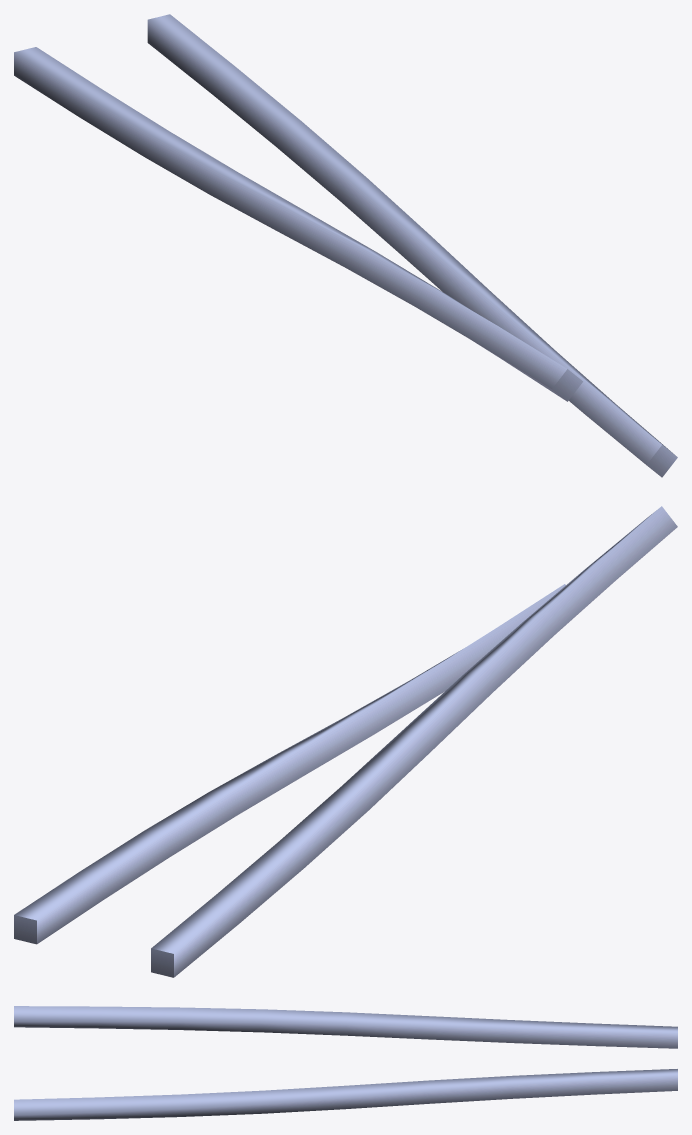
File: kenney-train-railroad-rail-straight-skew-left.glb
3 views of the same model, one above another, from view 1: azimuth 30°, elevation 25°; view 2: azimuth 150°, elevation 25°; view 3: azimuth 270°, elevation 25° (orthographic). The views are drawn at different scales.
Visible parts, largest first — view 1: railroad-rail-straight-skew-left; view 2: railroad-rail-straight-skew-left; view 3: railroad-rail-straight-skew-left.
Part boxes in pixels (x1=…): railroad-rail-straight-skew-left: x1=14, y1=14, x2=677, y2=477; railroad-rail-straight-skew-left: x1=14, y1=506, x2=677, y2=977; railroad-rail-straight-skew-left: x1=14, y1=1006, x2=677, y2=1120.
Bounding box in the file's own units: 0.7139 × 0.5654 × 4.
1 material, 1 textured.
